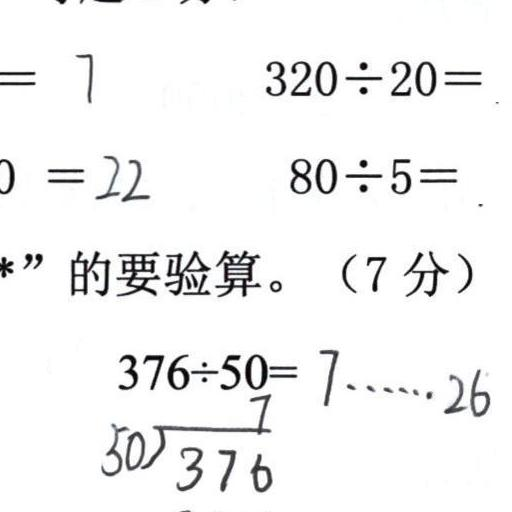ans: (312, 342, 491, 419), (90, 147, 149, 203), (69, 44, 97, 103)
